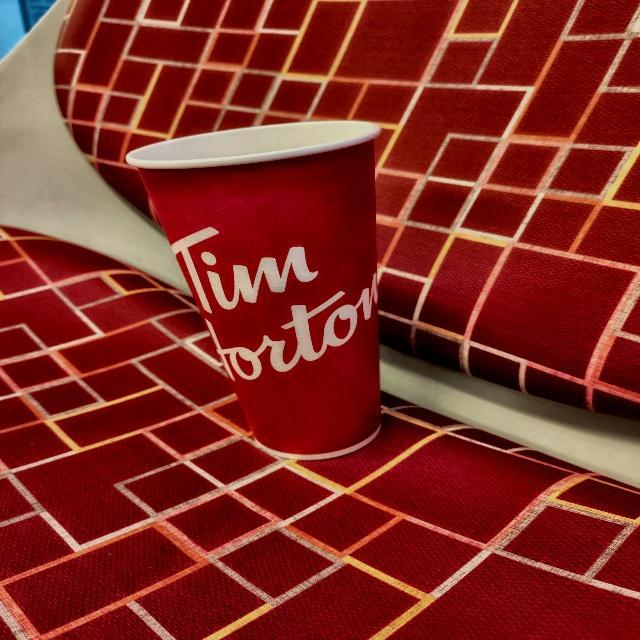timmies: (118, 118, 422, 462)
